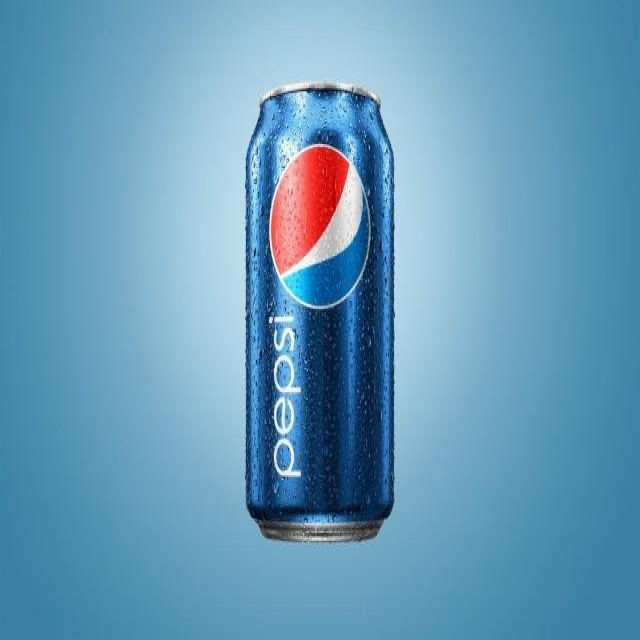pepsi: (267, 142, 374, 306)
